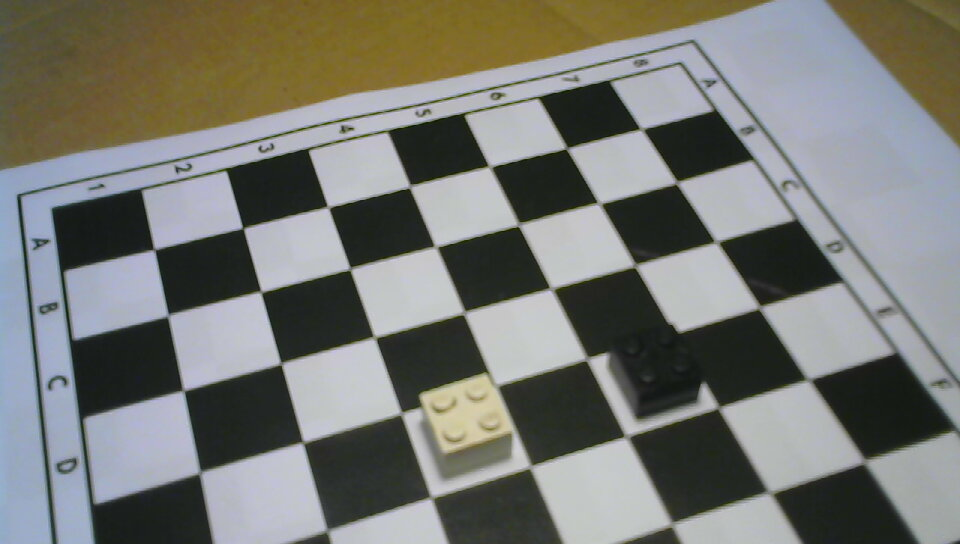bp: (604, 325, 702, 419)
wp: (418, 373, 513, 474)
